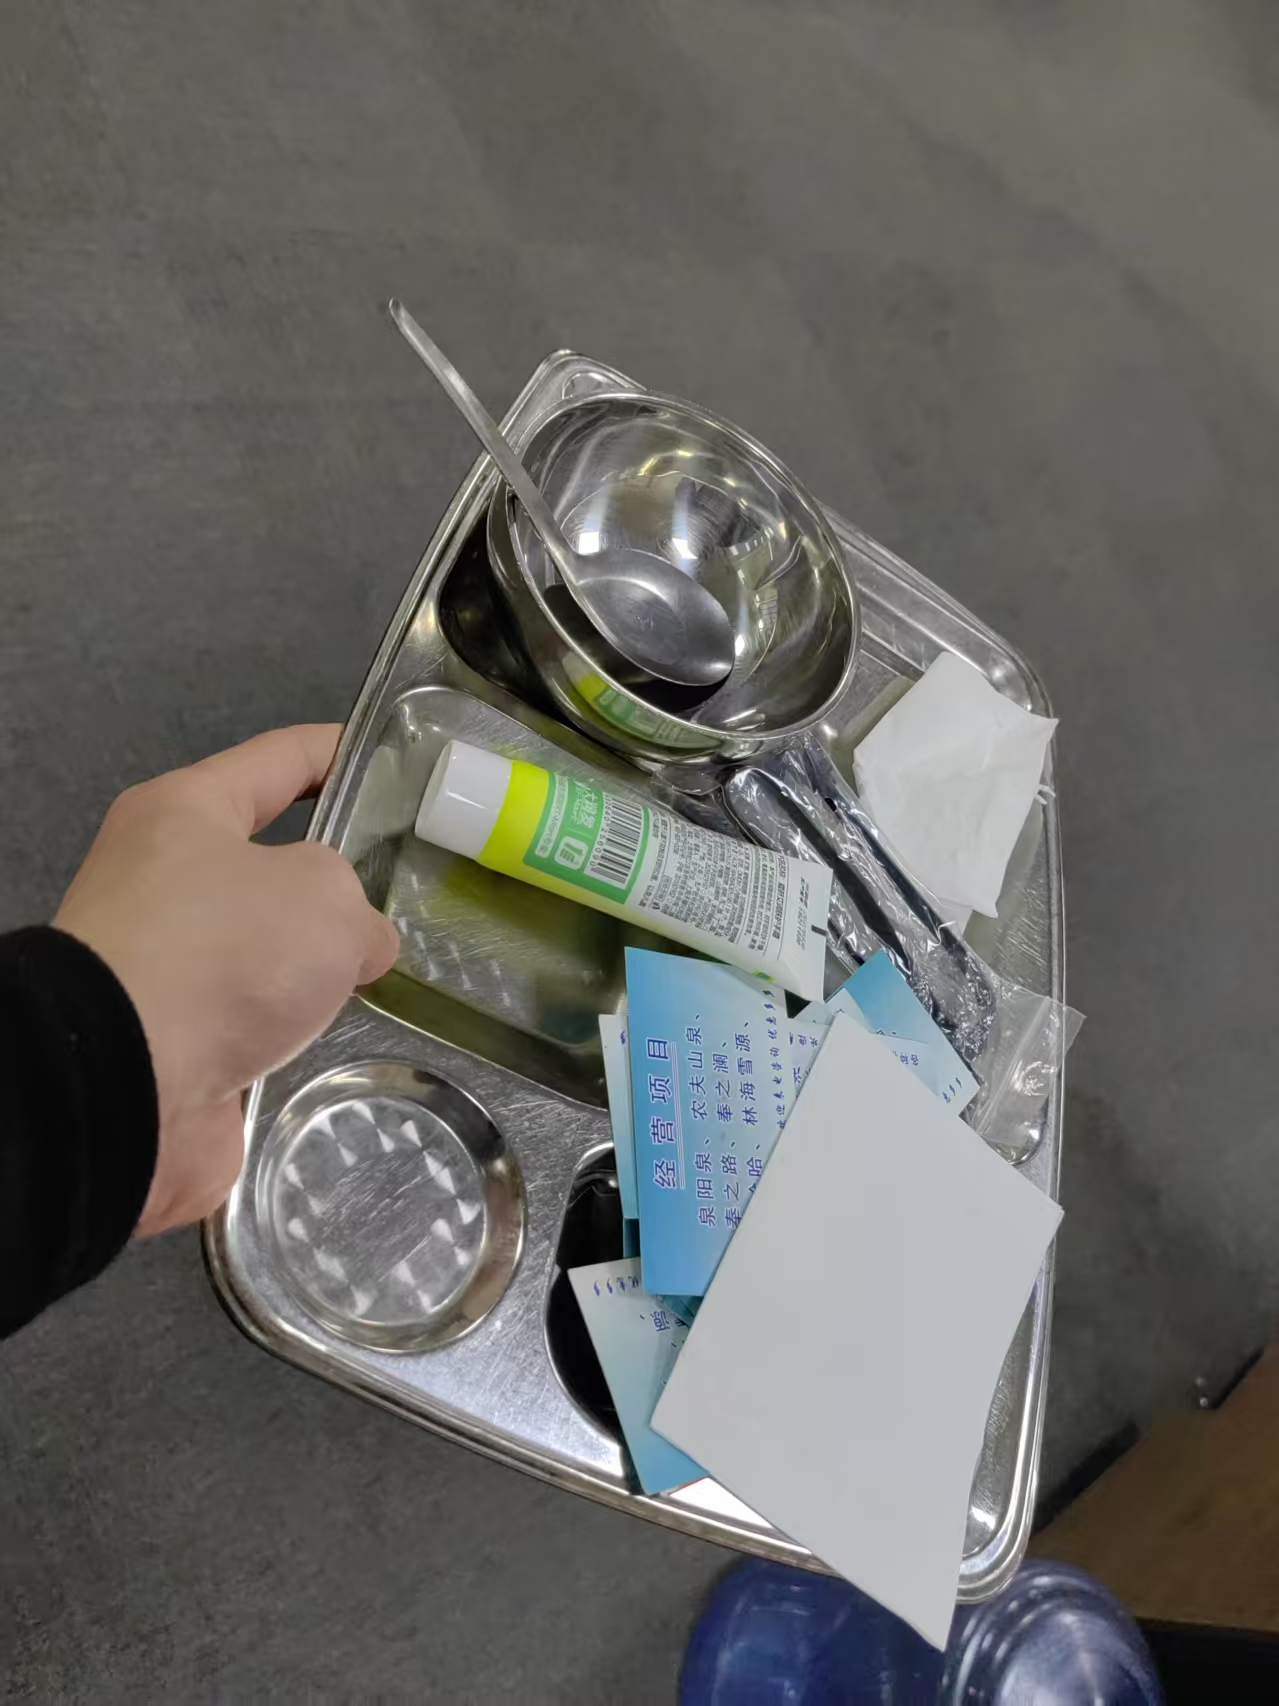moderate: (413, 700, 1049, 1500)
plate: (200, 347, 1070, 1608)
tissue: (649, 1008, 1067, 1654), (857, 647, 1062, 941)
